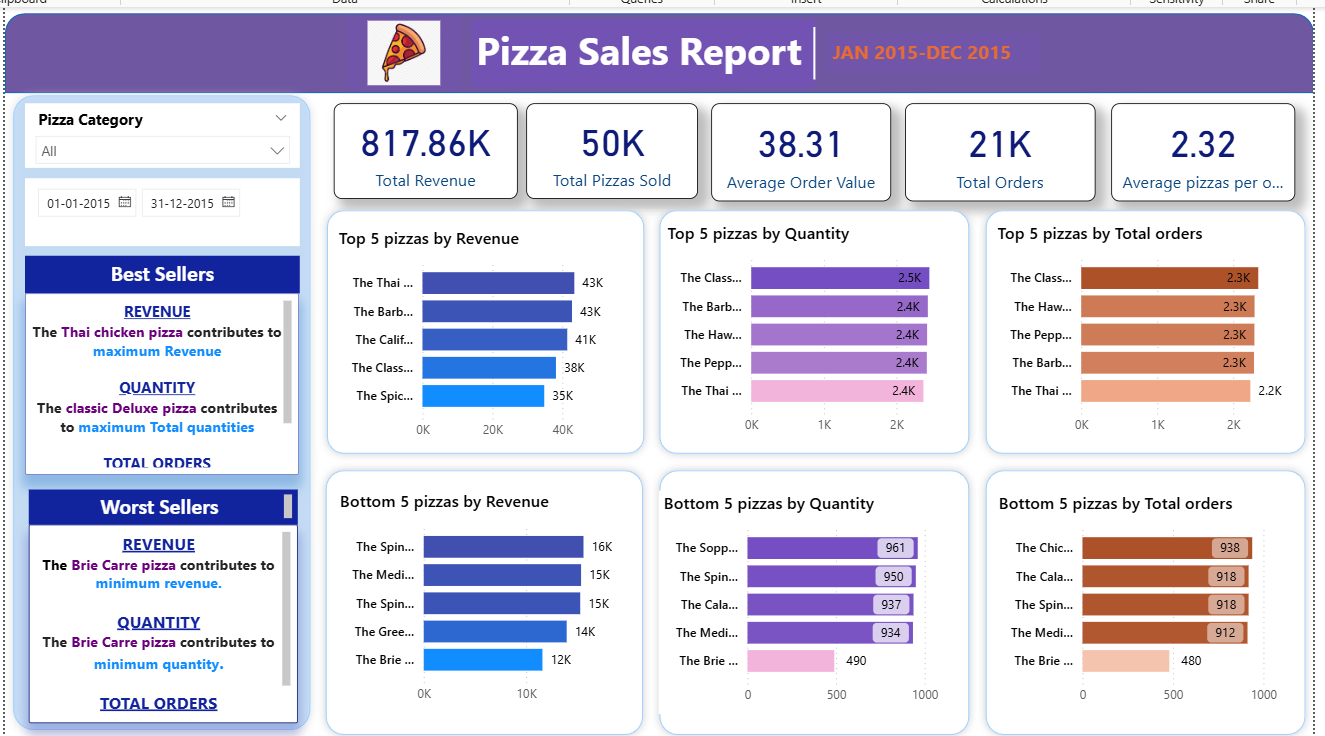

Layout of this report page (visuals, bound fields, positions):
{"tool":"powerbi","page":{"name":"Best/Worst Sellers","canvas":[1280,720],"ordinal":1},"visuals":[{"type":"card","fields":{"Values":["pizza_sales.Total Revenue"]},"box":[321.1,95.1,180.2,93.3],"z":0,"group":"g1"},{"type":"group","id":"g1","title":"Group 1","box":[321.1,94.7,941.3,93.3],"z":0},{"type":"card","fields":{"Values":["pizza_sales.Total Pizzas Sold"]},"box":[509.9,94.7,168.4,93.6],"z":1000,"group":"g1"},{"type":"shape","box":[0,6.1,1280.3,78.3],"z":1000},{"type":"card","fields":{"Values":["pizza_sales.Average Order Value"]},"box":[691,94.7,176,95.7],"z":2000,"group":"g1"},{"type":"shape","box":[306.9,190.8,326.5,254.3],"z":2000},{"type":"card","fields":{"Values":["pizza_sales.Total Orders"]},"box":[879.7,94.7,186.2,95.7],"z":3000,"group":"g1"},{"type":"shape","box":[305.7,445.1,326.5,275.1],"z":3000},{"type":"card","fields":{"Values":["pizza_sales.Average pizzas per order"]},"box":[1082.2,95.1,180.2,95.7],"z":4000,"group":"g1"},{"type":"shape","box":[632.2,445.1,319.2,275.1],"z":4000},{"type":"shape","box":[951.4,445.1,328.9,275.1],"z":5000},{"type":"shape","box":[0,78.3,306.9,637.1],"z":6000},{"type":"textbox","box":[19.6,243.3,269,36.7],"z":7000},{"type":"textbox","box":[19.6,280,267.8,177.3],"z":8000},{"type":"textbox","box":[23.2,506.3,262.9,194.4],"z":9000},{"type":"textbox","box":[23.2,472,262.9,34.2],"z":10000},{"type":"slicer","title":"Pizza Category","fields":{"Values":["pizza_sales.pizza_category"]},"box":[19.6,94.2,269,63.6],"z":11000},{"type":"slicer","title":"Pizza Category","fields":{"Values":["pizza_sales.order_date"]},"box":[19.6,167.5,269,66],"z":12000},{"type":"textbox","box":[456.1,12.2,336.3,66],"z":13000},{"type":"image","box":[333.8,8.6,112.5,73.4],"z":14000},{"type":"textbox","box":[804.6,25.7,207.9,37.9],"z":15000},{"type":"shape","box":[758.2,19.6,67.3,51.4],"z":16000},{"type":"shape","box":[632.2,190.8,319.2,254.3],"z":17000},{"type":"shape","box":[951.4,190.8,328.9,254.3],"z":18000},{"type":"barChart","title":"Top 5 pizzas by Revenue","fields":{"Category":["pizza_sales.pizza_name"],"Y":["pizza_sales.Total Revenue"]},"box":[321.1,214.1,296.4,218.2],"z":19000},{"type":"barChart","title":"Bottom 5 pizzas by Revenue","fields":{"Category":["pizza_sales.pizza_name"],"Y":["pizza_sales.Total Revenue"]},"box":[322.5,472,296.4,218.2],"z":20000},{"type":"barChart","title":"Top 5 pizzas by Quantity","fields":{"Category":["pizza_sales.pizza_name"],"Y":["pizza_sales.Total Pizzas Sold"]},"box":[643.6,208.6,296.4,218.2],"z":21000},{"type":"barChart","title":"Bottom 5 pizzas by Quantity","fields":{"Category":["pizza_sales.pizza_name"],"Y":["pizza_sales.Total Pizzas Sold"]},"box":[639.5,473.4,296.4,218.2],"z":22000},{"type":"barChart","title":"Top 5 pizzas by Total orders","fields":{"Category":["pizza_sales.pizza_name"],"Y":["pizza_sales.Total Orders"]},"box":[966,208.6,296.4,218.2],"z":23000},{"type":"barChart","title":"Bottom 5 pizzas by Total orders","fields":{"Category":["pizza_sales.pizza_name"],"Y":["pizza_sales.Total Orders"]},"box":[967.4,473.4,296.4,218.2],"z":24000}]}

Visuals, with their boxes on the page's 1280x720 design canvas (x1, y1, x2, y2). These are canvas units, not pixel positions in the 1325x736 screenshot, which may show the page scaled, cropped or inside an application window:
card - pizza_sales.Total Revenue: pyautogui.locateOnScreen(321, 95, 501, 188)
"Group 1" group: pyautogui.locateOnScreen(321, 95, 1262, 188)
card - pizza_sales.Total Pizzas Sold: pyautogui.locateOnScreen(510, 95, 678, 188)
shape: pyautogui.locateOnScreen(0, 6, 1280, 84)
card - pizza_sales.Average Order Value: pyautogui.locateOnScreen(691, 95, 867, 190)
shape: pyautogui.locateOnScreen(307, 191, 633, 445)
card - pizza_sales.Total Orders: pyautogui.locateOnScreen(880, 95, 1066, 190)
shape: pyautogui.locateOnScreen(306, 445, 632, 720)
card - pizza_sales.Average pizzas per order: pyautogui.locateOnScreen(1082, 95, 1262, 191)
shape: pyautogui.locateOnScreen(632, 445, 951, 720)
shape: pyautogui.locateOnScreen(951, 445, 1280, 720)
shape: pyautogui.locateOnScreen(0, 78, 307, 715)
textbox: pyautogui.locateOnScreen(20, 243, 289, 280)
textbox: pyautogui.locateOnScreen(20, 280, 287, 457)
textbox: pyautogui.locateOnScreen(23, 506, 286, 701)
textbox: pyautogui.locateOnScreen(23, 472, 286, 506)
"Pizza Category" slicer: pyautogui.locateOnScreen(20, 94, 289, 158)
"Pizza Category" slicer: pyautogui.locateOnScreen(20, 168, 289, 234)
textbox: pyautogui.locateOnScreen(456, 12, 792, 78)
image: pyautogui.locateOnScreen(334, 9, 446, 82)
textbox: pyautogui.locateOnScreen(805, 26, 1012, 64)
shape: pyautogui.locateOnScreen(758, 20, 826, 71)
shape: pyautogui.locateOnScreen(632, 191, 951, 445)
shape: pyautogui.locateOnScreen(951, 191, 1280, 445)
"Top 5 pizzas by Revenue" barChart: pyautogui.locateOnScreen(321, 214, 618, 432)
"Bottom 5 pizzas by Revenue" barChart: pyautogui.locateOnScreen(322, 472, 619, 690)
"Top 5 pizzas by Quantity" barChart: pyautogui.locateOnScreen(644, 209, 940, 427)
"Bottom 5 pizzas by Quantity" barChart: pyautogui.locateOnScreen(640, 473, 936, 692)
"Top 5 pizzas by Total orders" barChart: pyautogui.locateOnScreen(966, 209, 1262, 427)
"Bottom 5 pizzas by Total orders" barChart: pyautogui.locateOnScreen(967, 473, 1264, 692)
